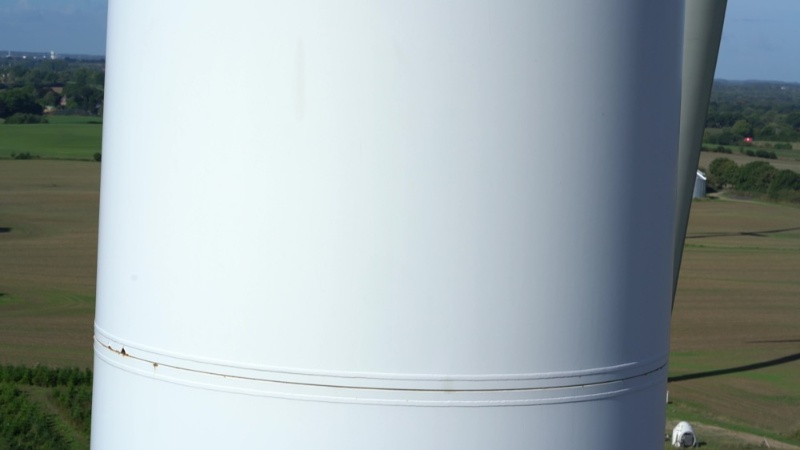weldseam: (92, 344, 668, 410), (93, 319, 668, 384)
